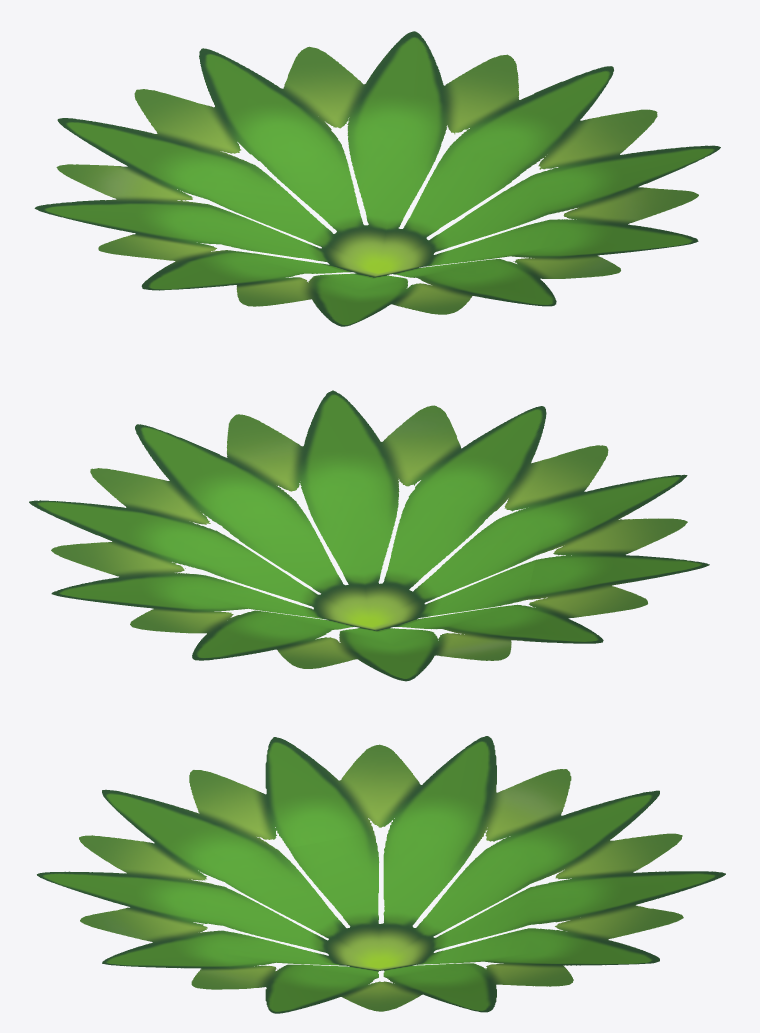
The model's file is Item_Flower_Nature.fbx.
3 renders of one model, top to bottom at view 1: azimuth 30°, elevation 25°; view 2: azimuth 150°, elevation 25°; view 3: azimuth 270°, elevation 25°, orthographic.
Parts seen in each view (by area): view 1: Item_Flower_Nature; view 2: Item_Flower_Nature; view 3: Item_Flower_Nature.
Boxes of the visible parts, x1,y1,x2,y2 form: Item_Flower_Nature: (34, 31, 720, 326); Item_Flower_Nature: (29, 390, 709, 681); Item_Flower_Nature: (37, 736, 725, 1013).
Size of the model in its own units: 5.9 by 0.886 by 6.08.
Materials: 1 (1 with a texture image).
